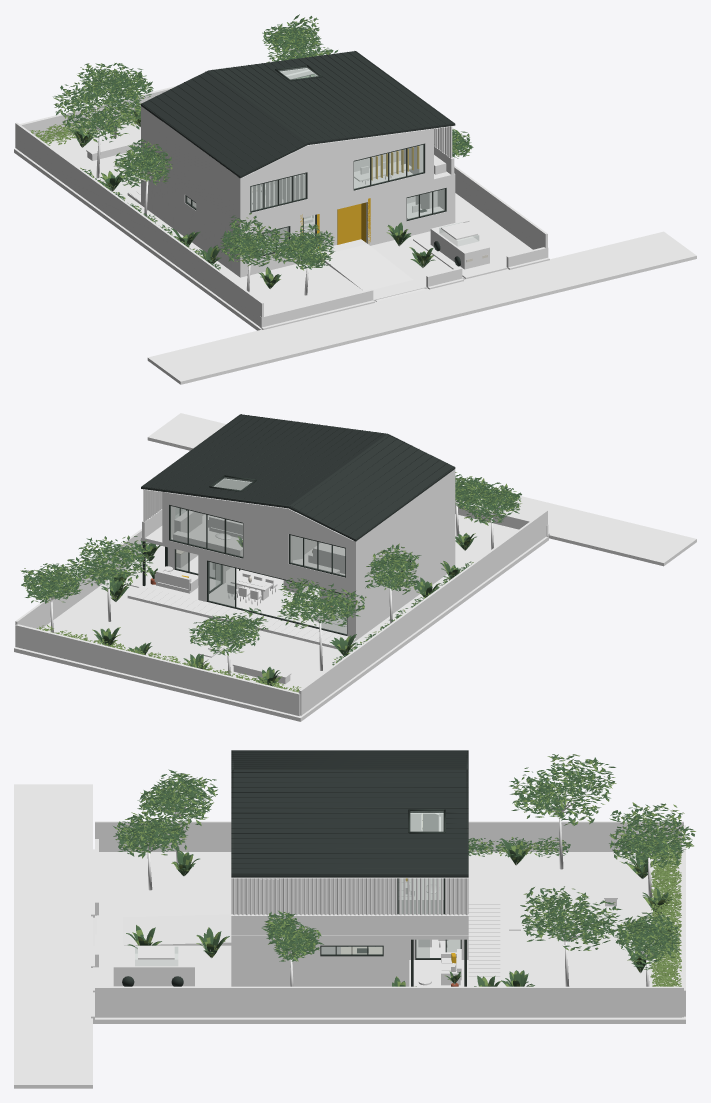
Rendered from pikachu-house.glb.
3 views of the same model, one above another, from view 1: azimuth 30°, elevation 25°; view 2: azimuth 150°, elevation 25°; view 3: azimuth 270°, elevation 25° (orthographic). The views are drawn at different scales.
Parts seen in each view (by area): view 1: Street south of plot.004, Planted ground plane.004, Side neighbor garden boundary.008, Folded roof plane.044, Upper solid west side 0.004, Folded roof plane.052, Folded roof plane.047, Frangipani / tropical canopy.036, Continuous graded entry route, Side neighbor garden boundary.009, Folded roof plane.050, Upper south 2.004 (+28 smaller); view 2: Planted ground plane.004, Street south of plot.004, North garden wall.004, Side neighbor garden boundary.008, Folded roof plane.044, Upper solid west side 0.004, Folded roof plane.052, Folded roof plane.047, 20 x 30 m site base.004, Open garden deck.004, Ground enclosed floor | 164.40 m2.004, Frangipani / tropical canopy.037 (+32 smaller); view 3: Planted ground plane.004, Street south of plot.004, Side neighbor garden boundary.009, Folded roof plane.052, Folded roof plane.047, Side neighbor garden boundary.008, East terrace solid guard.004, Frangipani / tropical canopy.036, 20 x 30 m site base.004, Folded roof plane.050, Open garden deck.004, Frangipani / tropical canopy.037 (+28 smaller).
Part boxes in pixels (left/top/right/bottom): Street south of plot.004: left=147, top=231, right=696, bottom=384; Planted ground plane.004: left=44, top=120, right=532, bottom=315; Side neighbor garden boundary.008: left=15, top=122, right=263, bottom=326; Folded roof plane.044: left=165, top=89, right=307, bottom=178; Upper solid west side 0.004: left=141, top=106, right=242, bottom=226; Folded roof plane.052: left=322, top=69, right=455, bottom=133; Folded roof plane.047: left=233, top=81, right=364, bottom=144; Frangipani / tropical canopy.036: left=53, top=81, right=141, bottom=142; Continuous graded entry route: left=322, top=244, right=425, bottom=301; Side neighbor garden boundary.009: left=302, top=54, right=547, bottom=249; Folded roof plane.050: left=291, top=77, right=396, bottom=137; Upper south 2.004: left=307, top=155, right=353, bottom=209; Planted ground plane.004: left=41, top=514, right=518, bottom=692; Street south of plot.004: left=147, top=413, right=696, bottom=566; North garden wall.004: left=15, top=624, right=300, bottom=715; Side neighbor garden boundary.008: left=299, top=510, right=547, bottom=715; Folded roof plane.044: left=314, top=434, right=455, bottom=522; Upper solid west side 0.004: left=353, top=469, right=455, bottom=589; Folded roof plane.052: left=166, top=414, right=297, bottom=476; Folded roof plane.047: left=257, top=426, right=387, bottom=488; 20 x 30 m site base.004: left=14, top=536, right=548, bottom=721; Open garden deck.004: left=127, top=586, right=355, bottom=649; Ground enclosed floor | 164.40 m2.004: left=174, top=556, right=447, bottom=640; Frangipani / tropical canopy.037: left=65, top=535, right=154, bottom=588; Planted ground plane.004: left=97, top=852, right=681, bottom=1017; Street south of plot.004: left=14, top=784, right=92, bottom=1088; Side neighbor garden boundary.009: left=95, top=986, right=683, bottom=1017; Folded roof plane.052: left=231, top=833, right=409, bottom=877; Folded roof plane.047: left=231, top=769, right=409, bottom=810; Side neighbor garden boundary.008: left=95, top=821, right=683, bottom=851; East terrace solid guard.004: left=231, top=914, right=468, bottom=934; Frangipani / tropical canopy.036: left=509, top=754, right=616, bottom=825; 20 x 30 m site base.004: left=93, top=915, right=685, bottom=1023; Folded roof plane.050: left=231, top=810, right=408, bottom=832; Open garden deck.004: left=468, top=868, right=500, bottom=986; Frangipani / tropical canopy.037: left=520, top=886, right=621, bottom=950.
Bounding box in the file's own units: 36 × 8.24 × 34.55.
